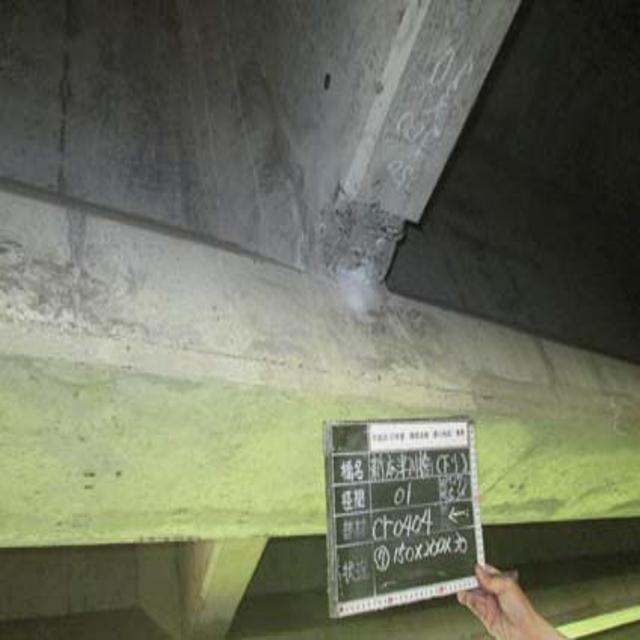spalling: (290, 180, 429, 330)
